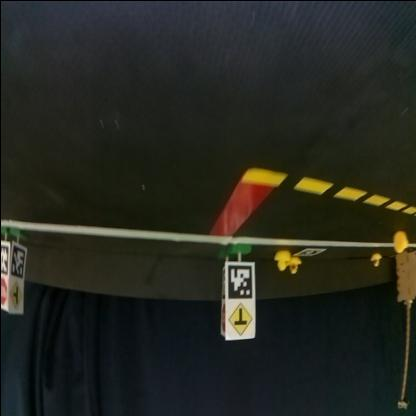Duckie: (272, 250, 288, 272), (391, 230, 407, 252), (288, 256, 300, 274), (370, 253, 379, 268)
Intersection sign: (226, 304, 252, 338), (9, 282, 22, 314)
QR code: (226, 266, 250, 300), (9, 244, 25, 278), (295, 248, 324, 256), (1, 240, 7, 275), (220, 269, 224, 299)
Stop sign: (1, 278, 7, 310), (218, 304, 224, 336)
